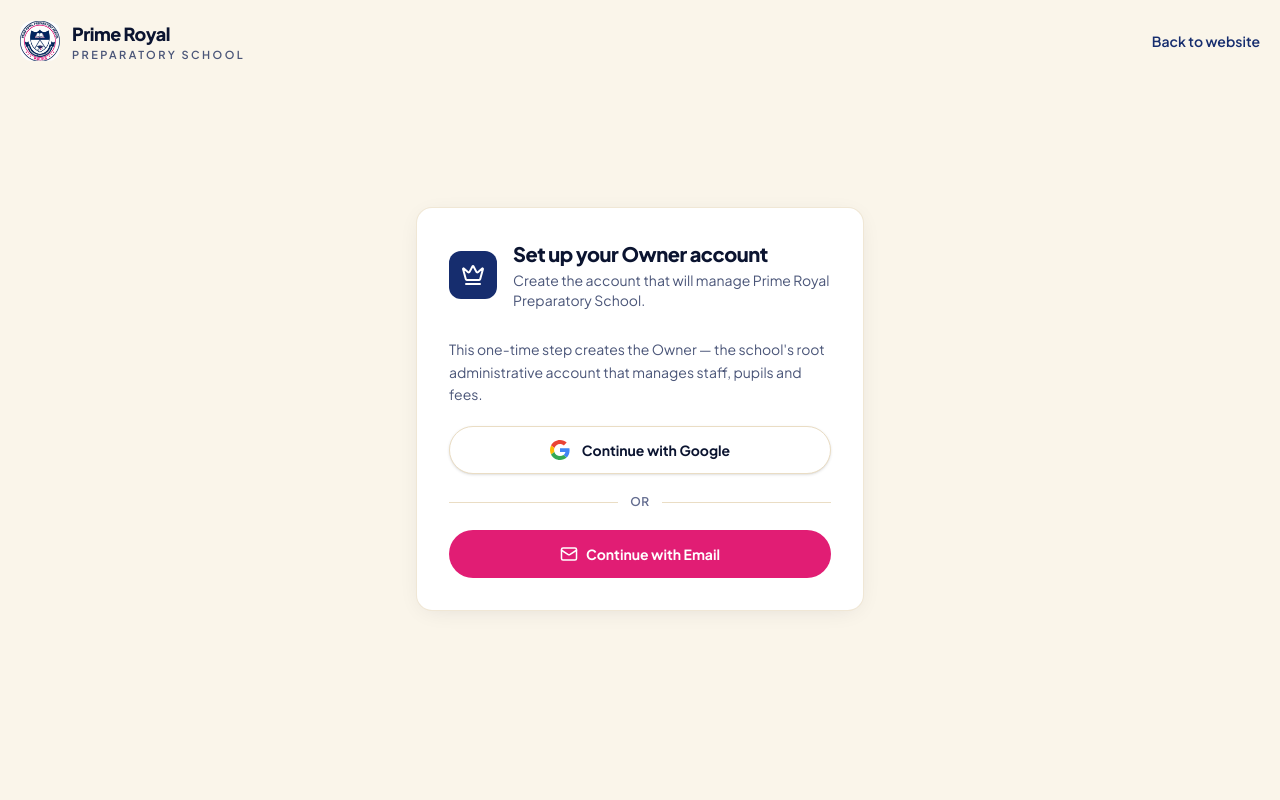
OwnerSetupPage › reveals the email form and a way back to the choice screen
The width and height of the screenshot is (1280, 800).
Click the button "Continue with Email" at (640, 554), box [449,530,831,578]
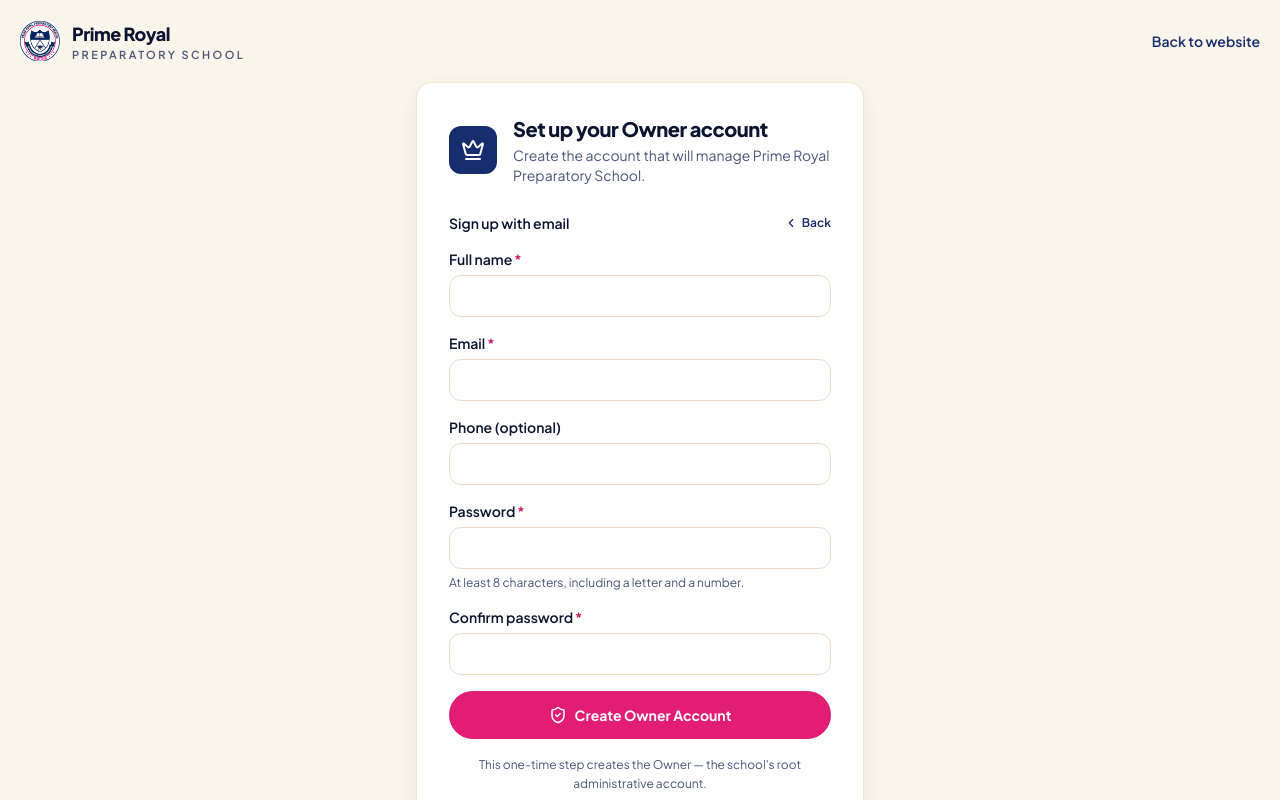
Expected: the field labelled "Email*" is shown, [449,359,831,401]
Expected: the button "Back" is shown, [784,215,831,231]
